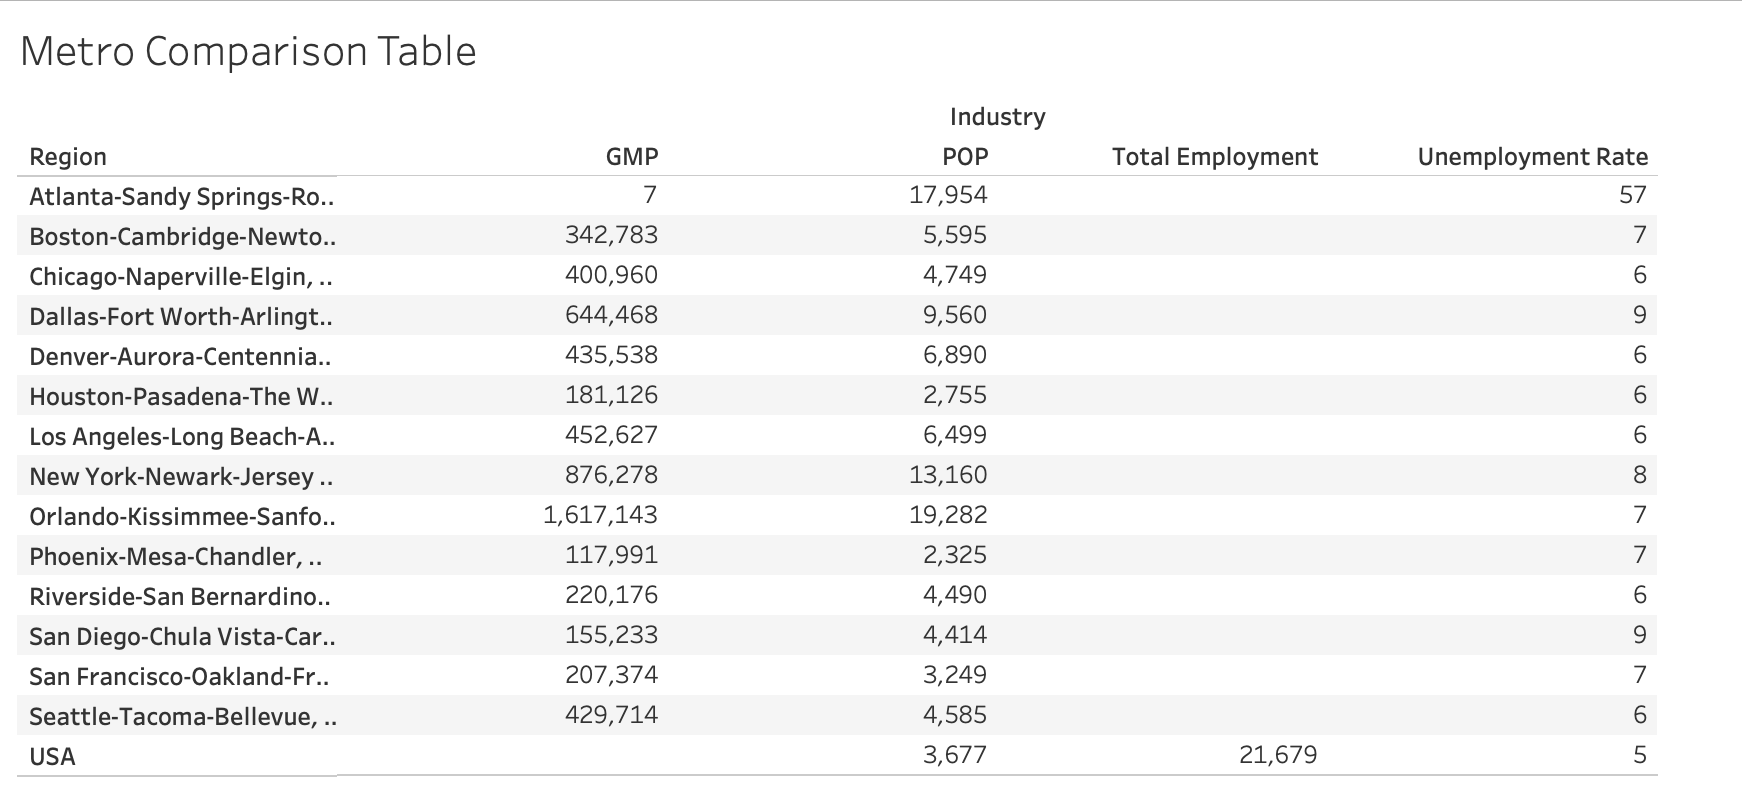

This screenshot's page, from the dashboard's own definition file:
{"tool":"tableau","page":{"name":"Dashboard 3","canvas":[1000,800],"ordinal":2},"visuals":[{"type":"worksheet","title":"Metro Comparison Table","mark":"Automatic","rows":["Region"],"cols":["Industry"],"box":[8,8,984,481]}]}

Visuals, with their boxes on the page's 1000x800 design canvas (x1, y1, x2, y2). These are canvas units, not pixel positions in the 1742x810 screenshot, which may show the page scaled, cropped or inside an application window:
"Metro Comparison Table" worksheet: (left=8, top=8, right=992, bottom=489)
